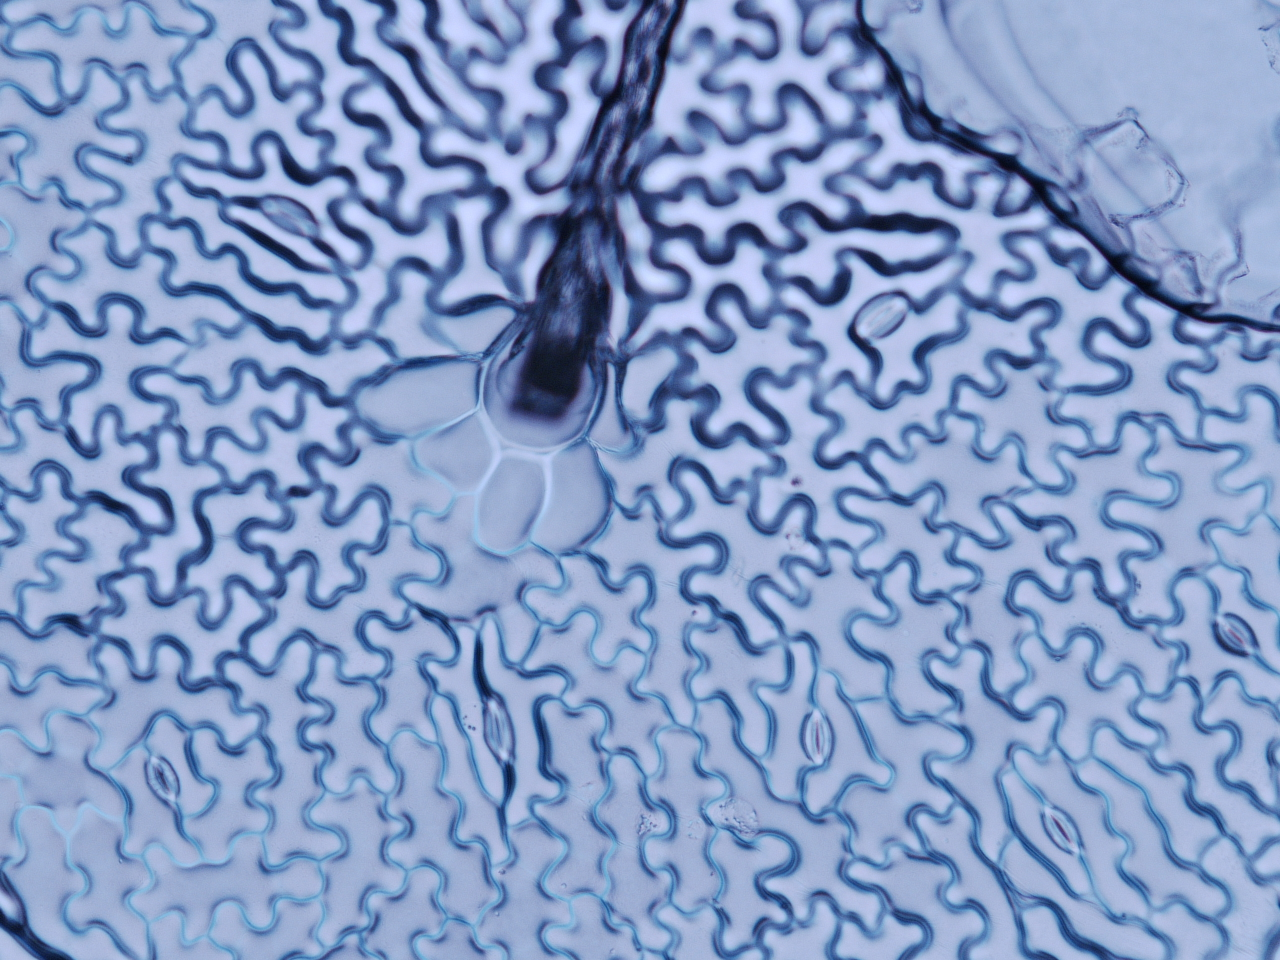estoma: (478, 695, 520, 769), (851, 291, 911, 340), (259, 190, 321, 236), (1039, 801, 1081, 854), (1215, 609, 1259, 655), (143, 755, 181, 807), (804, 709, 833, 768)
